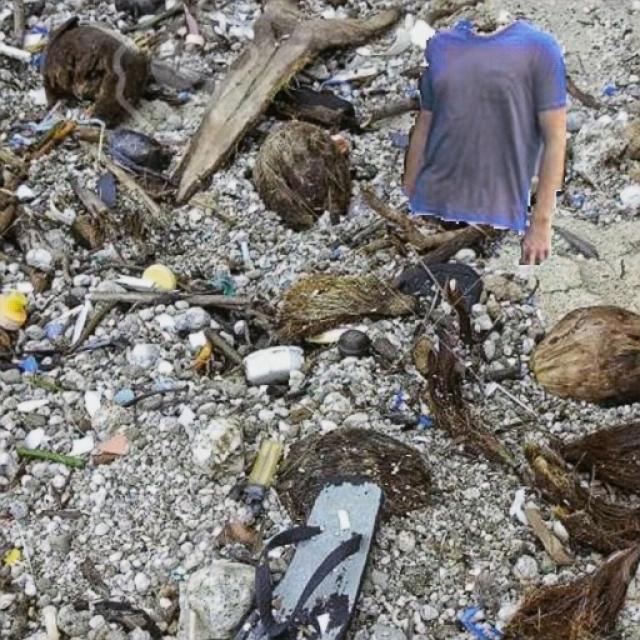Person in Rubble: (401, 18, 565, 264)
